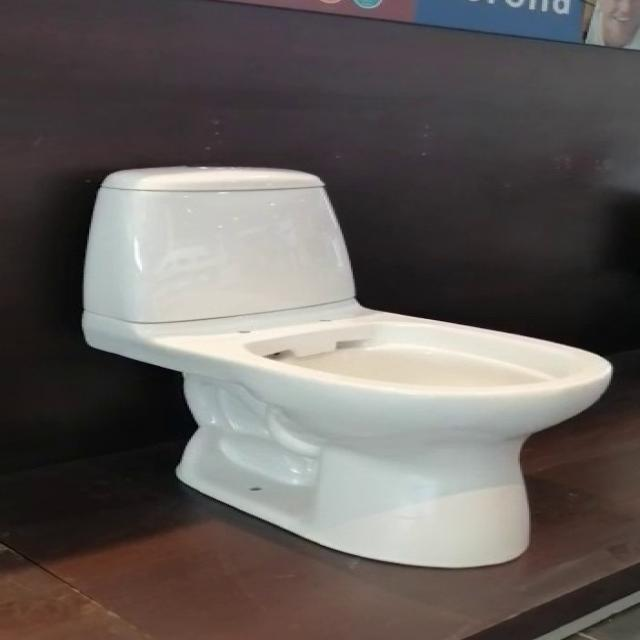toilet: (73, 160, 618, 574)
